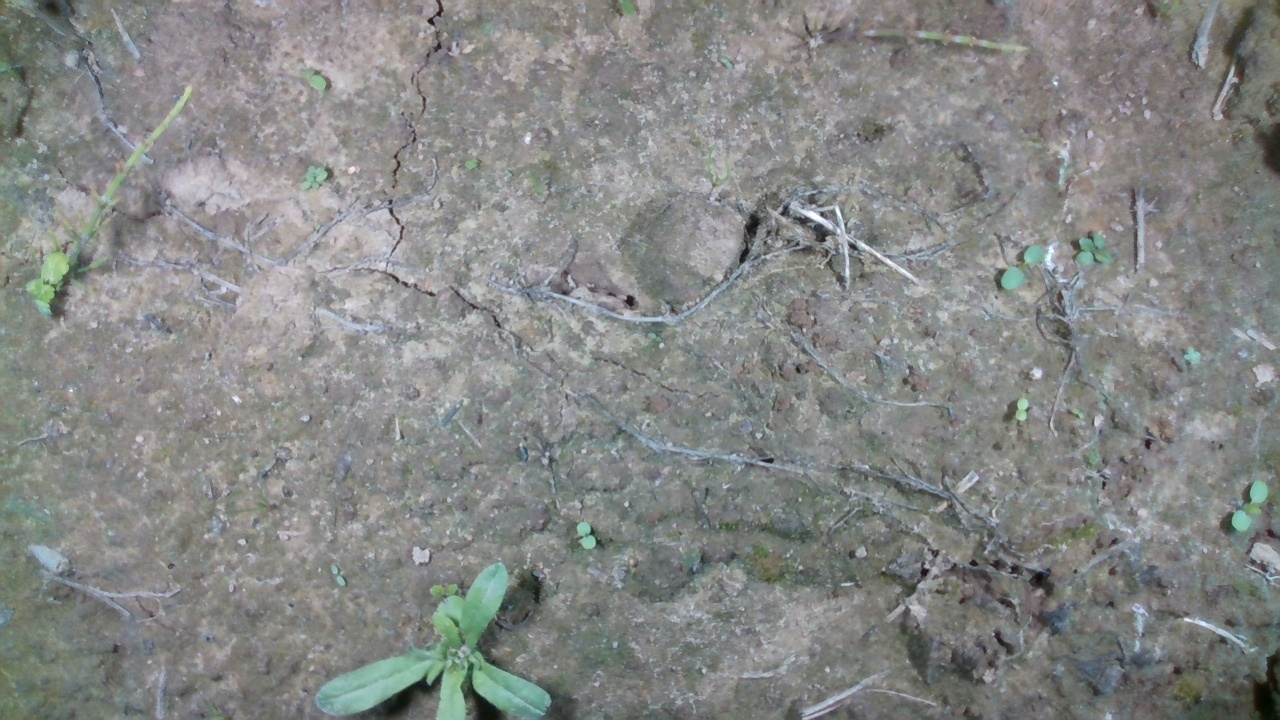weed: (1231, 477, 1271, 531), (1002, 241, 1036, 285), (567, 518, 599, 550), (295, 163, 330, 192), (302, 64, 327, 93), (1009, 395, 1034, 420), (1175, 344, 1201, 365)
